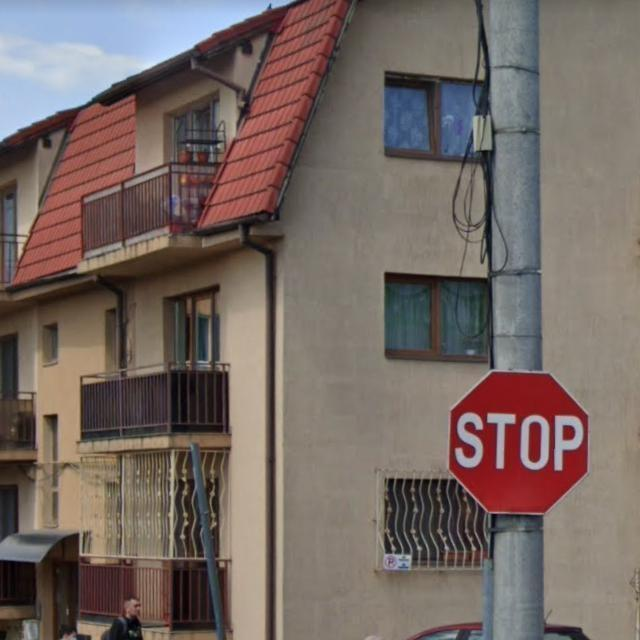prio_stop: (449, 371, 587, 515)
